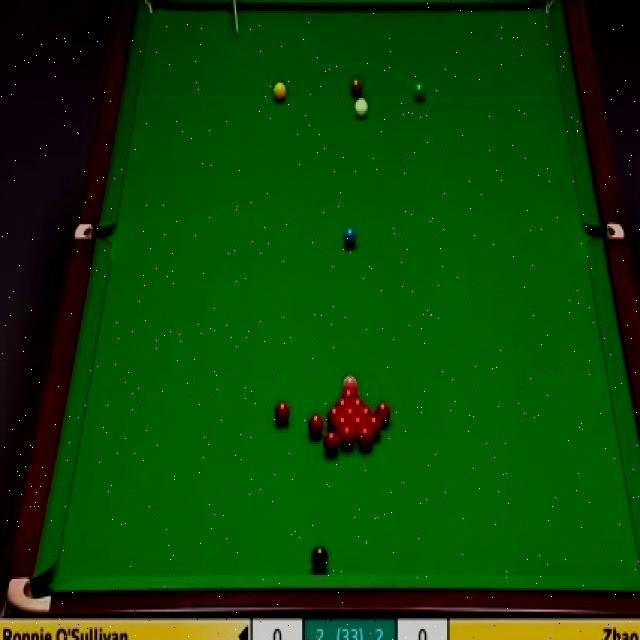black-ball: (311, 542, 328, 572)
blue-ball: (341, 225, 358, 251)
brown-ball: (349, 79, 362, 98)
green-ball: (413, 81, 426, 102)
pink-ball: (343, 375, 359, 389)
red-ball: (306, 412, 324, 442), (273, 402, 293, 429), (323, 431, 340, 459), (376, 398, 393, 425), (358, 424, 376, 448), (367, 415, 384, 439), (339, 425, 354, 451), (334, 414, 351, 436), (351, 414, 366, 436), (349, 398, 368, 412), (341, 387, 360, 398), (340, 406, 357, 417), (327, 406, 341, 419), (334, 398, 351, 408), (358, 407, 374, 417)
white-ball: (344, 109, 361, 131)
yellow-ball: (272, 80, 288, 102)
